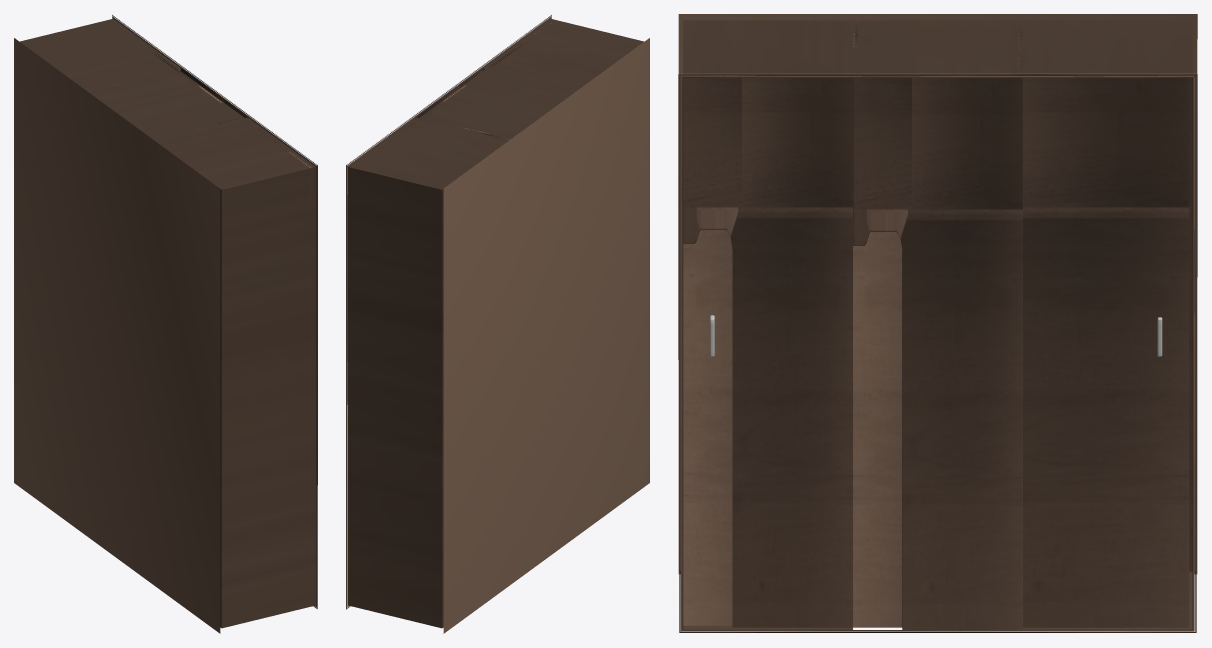
The model's file is bedroom cupboard.fbx.
3 renders of one model, left to right at view 1: azimuth 30°, elevation 25°; view 2: azimuth 150°, elevation 25°; view 3: azimuth 270°, elevation 25°, orthographic. The views are drawn at different scales.
Visible parts, largest first — view 1: Wardrobe; view 2: Wardrobe; view 3: Wardrobe.
Boxes of the visible parts, bbox=[...] form: Wardrobe: bbox=[14, 15, 317, 633]; Wardrobe: bbox=[346, 15, 649, 633]; Wardrobe: bbox=[678, 14, 1197, 632].
Bounding box in the file's own units: 114 × 499 × 419.
